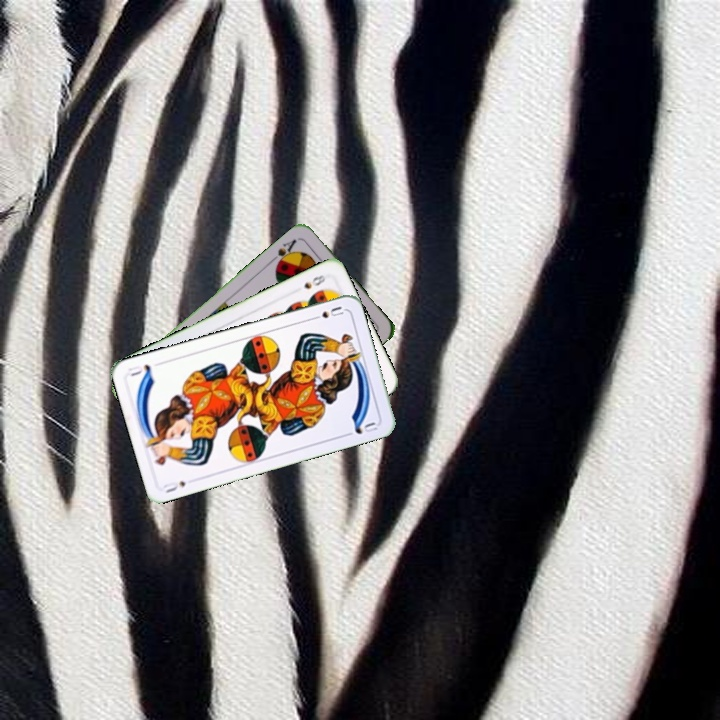S8: (300, 269, 330, 291)
SA: (267, 235, 299, 269)
SU: (307, 302, 346, 323), (160, 477, 188, 496)
